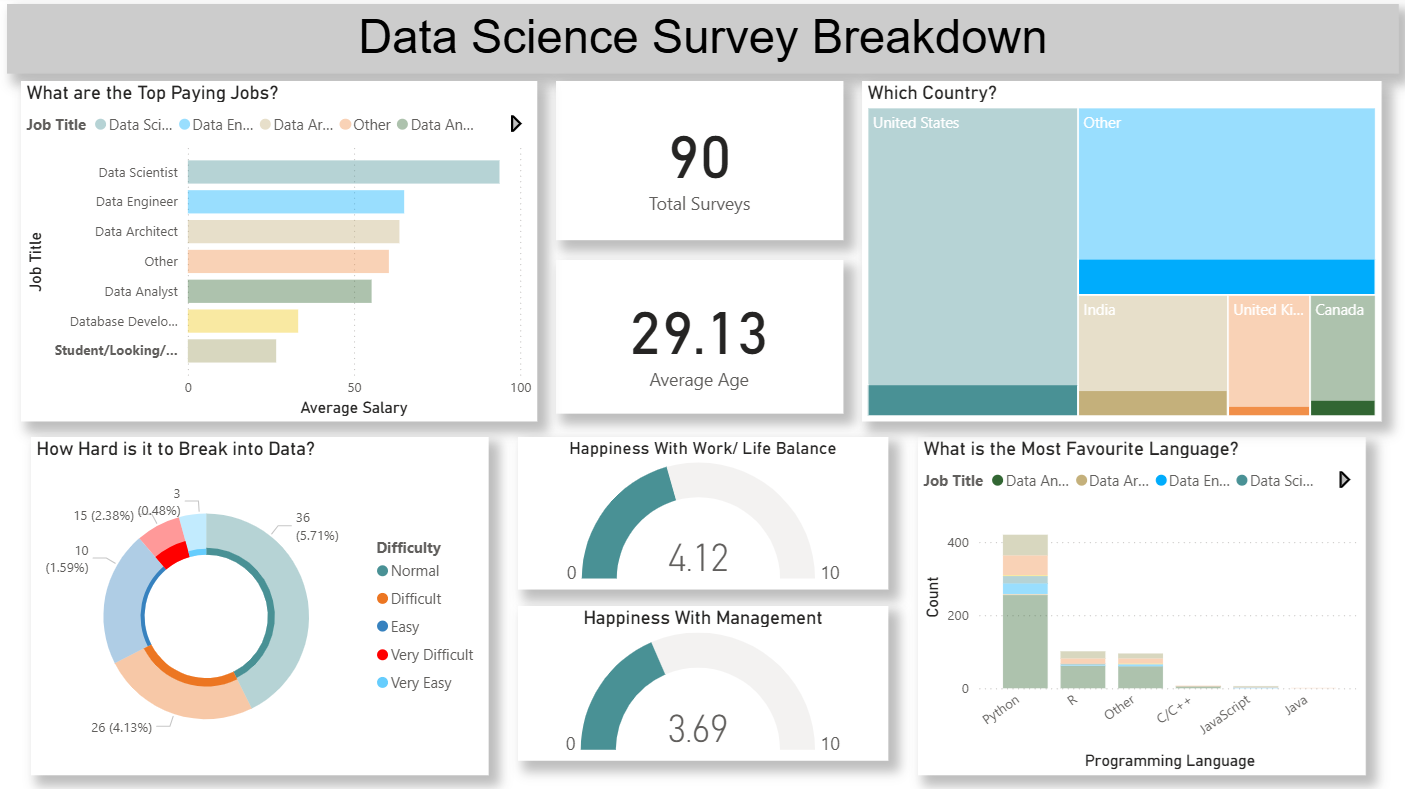

This screenshot's page, from the dashboard's own definition file:
{"tool":"powerbi","page":{"name":"Page 1","canvas":[1280,720],"ordinal":0},"visuals":[{"type":"textbox","box":[10.9,7.2,1259.2,63.3],"z":0},{"type":"card","fields":{"Values":["CountNonNull(Data Professional Survey.Unique ID)"]},"box":[507.5,76.9,259.6,143.8],"z":1000},{"type":"card","fields":{"Values":["Avg(Data Professional Survey.Q10 - Current Age)"]},"box":[507.5,238.8,259.6,139.3],"z":2000},{"type":"barChart","title":"What are the Top Paying Jobs?","fields":{"Category":["Data Professional Survey.Q1 - Which Title Best Fits your Current Role?.1"],"Y":["Avg(Data Professional Survey.Average Salary)"],"Series":["Data Professional Survey.Q1 - Which Title Best Fits your Current Role?.1"]},"box":[23.5,76.9,466.8,308.5],"z":3000},{"type":"columnChart","title":"What is the Most Favourite Language?","fields":{"Category":["Data Professional Survey.Q5 - Favorite Programming Language.1"],"Y":["CountNonNull(Data Professional Survey.Unique ID)"],"Series":["Data Professional Survey.Q1 - Which Title Best Fits your Current Role?.1"]},"box":[834.9,398.9,405.3,305.8],"z":4000},{"type":"treemap","title":"Which Country?","fields":{"Group":["Data Professional Survey.Q11 - Which Country do you live in?.1"],"Values":["CountNonNull(Data Professional Survey.Q11 - Which Country do you live in?.1)"]},"box":[784.3,76.9,470.4,308.5],"z":5000},{"type":"gauge","title":"Happiness With Work/ Life Balance","fields":{"Y":["Avg(Data Professional Survey.Q6 - How Happy are you in your Current Position with the following? (Work/Life Balance))"],"MinValue":["Min(Data Professional Survey.Q6 - How Happy are you in your Current Position with the following? (Work/Life Balance))"],"MaxValue":["Max(Data Professional Survey.Q6 - How Happy are you in your Current Position with the following? (Work/Life Balance))"]},"box":[473.1,398.9,334.7,138.4],"z":6000},{"type":"gauge","title":"Happiness With Management","fields":{"Y":["Avg(Data Professional Survey.Q6 - How Happy are you in your Current Position with the following? (Management))"],"MinValue":["Min(Data Professional Survey.Q6 - How Happy are you in your Current Position with the following? (Management))"],"MaxValue":["Max(Data Professional Survey.Q6 - How Happy are you in your Current Position with the following? (Management))"]},"box":[473.1,551.8,334.7,140.2],"z":7000},{"type":"donutChart","title":"How Hard is it to Break into Data?","fields":{"Category":["Data Professional Survey.Q7 - How difficult was it for you to break into Data?"],"Y":["CountNonNull(Data Professional Survey.Q7 - How difficult was it for you to break into Data?)"]},"box":[32.6,398.9,414.3,305.8],"z":8000}]}

Visuals, with their boxes in screenshot pixels (x1, y1, x2, y2), scaled from the page's 1280x720 canvas onto the 1405x789 screenshot:
textbox: [left=12, top=8, right=1394, bottom=77]
card - CountNonNull(Data Professional Survey.Unique ID): [left=557, top=84, right=842, bottom=242]
card - Avg(Data Professional Survey.Q10 - Current Age): [left=557, top=262, right=842, bottom=414]
"What are the Top Paying Jobs?" barChart: [left=26, top=84, right=538, bottom=422]
"What is the Most Favourite Language?" columnChart: [left=916, top=437, right=1361, bottom=772]
"Which Country?" treemap: [left=861, top=84, right=1377, bottom=422]
"Happiness With Work/ Life Balance" gauge: [left=519, top=437, right=887, bottom=589]
"Happiness With Management" gauge: [left=519, top=605, right=887, bottom=758]
"How Hard is it to Break into Data?" donutChart: [left=36, top=437, right=491, bottom=772]
